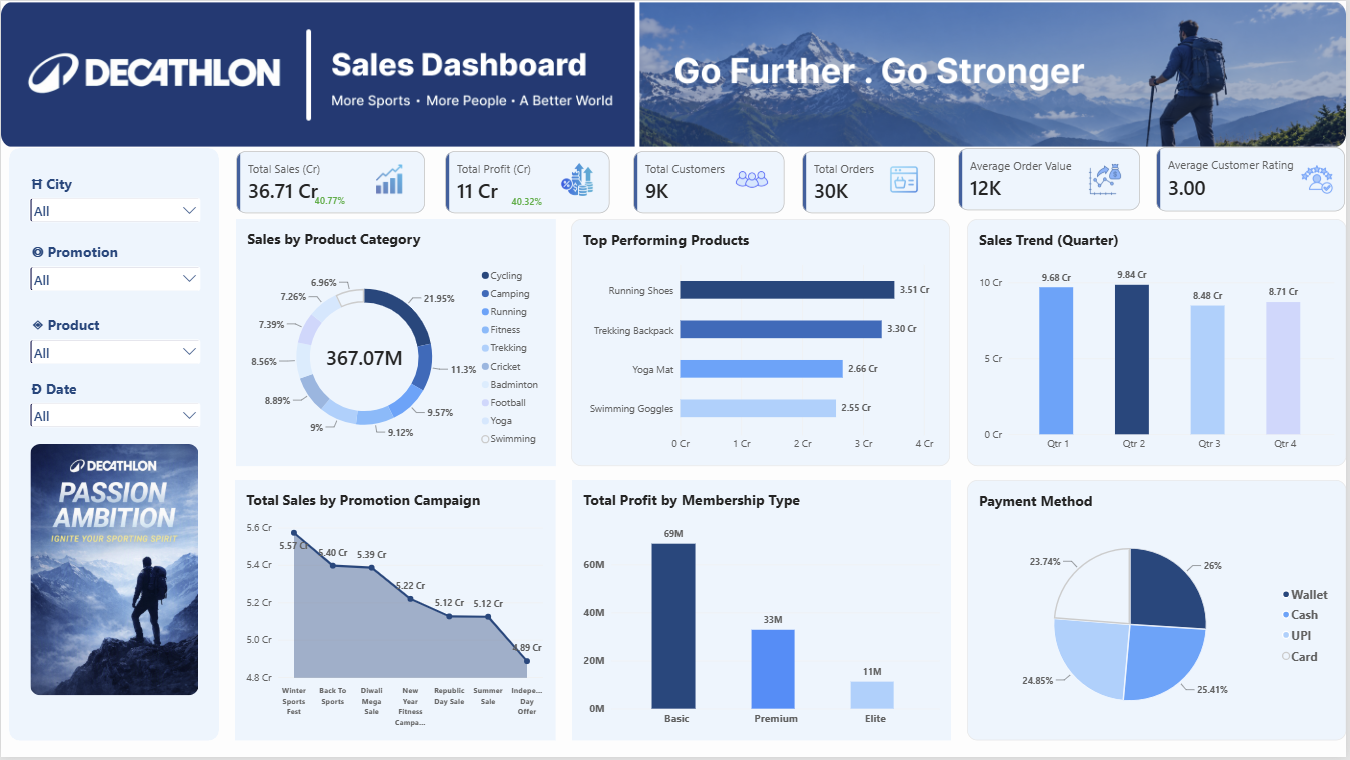

The page's visual inventory and layout, read from the dashboard file:
{"tool":"powerbi","page":{"name":"Page 1","canvas":[1920,1080],"ordinal":0},"visuals":[{"type":"cardVisual","fields":{"Data":["Sheet1.Total Profit (Cr)"]},"box":[634.4,214.4,235.6,89.3],"z":0},{"type":"image","box":[0,0,1920,210.1],"z":1000},{"type":"cardVisual","fields":{"Data":["Sheet1.Total Sales (Cr)"]},"box":[335.6,214.4,271,89.3],"z":2000},{"type":"cardVisual","fields":{"Data":["Date.Sales YOY"]},"box":[432,272,77.5,25.8],"z":3000},{"type":"donutChart","title":"Sales by Product Category","fields":{"Category":["Sheet1.Product_Category"],"Y":["Sum(Sheet1.Final_Amount)"]},"box":[335.7,311,457.3,352.6],"z":4000},{"type":"barChart","title":"Top Performing Products","fields":{"Category":["Sheet1.Product_Name"],"Y":["Sheet1.Total Sales (Cr)"]},"box":[814.5,311,540.4,352.6],"z":5000},{"type":"columnChart","title":"Sales Trend (Quarter)","fields":{"Category":["Date.Date.Variation.Date Hierarchy.Quarter"],"Y":["Sheet1.Total Sales (Cr)"]},"box":[1378,311,542,352.6],"z":6000},{"type":"cardVisual","fields":{"Data":["Sheet1.Total Customers"]},"box":[903.3,214.4,215.6,89.3],"z":7000},{"type":"cardVisual","fields":{"Data":["Sheet1.Total Orders"]},"box":[1143.3,214.4,190.9,89.3],"z":8000},{"type":"cardVisual","fields":{"Data":["Sheet1.Average Order Value"]},"box":[1365.7,209.4,260.2,89.3],"z":9000},{"type":"cardVisual","fields":{"Data":["Sheet1.Average Customer Rating"]},"box":[1649,207.9,271,92.4],"z":10000},{"type":"cardVisual","fields":{"Data":["Date.Profit YOY"]},"box":[713,273,77,24],"z":11000},{"type":"shape","box":[11.7,210,300,846.7],"z":11500},{"type":"pieChart","title":"Payment Method","fields":{"Category":["Sheet1.Payment_Method"],"Y":["Sheet1.Total Orders"]},"box":[1378.3,685,541.7,371.7],"z":12000},{"type":"columnChart","title":"Total Profit by Membership Type","fields":{"Category":["Sheet1.Membership_Type"],"Y":["Sheet1.Total Profit"]},"box":[815,685,540,371.7],"z":13000},{"type":"lineChart","title":"Total Sales by Promotion Campaign","fields":{"Category":["Sheet1.Promotion_Campaign"],"Y":["Sheet1.Total Sales (Cr)"]},"box":[335,685,458.3,371.7],"z":15000},{"type":"image","box":[520,232.2,68.9,43.3],"z":16000},{"type":"image","box":[793.3,231.7,60,46.7],"z":17000},{"type":"image","box":[1041.7,231.7,60,46.7],"z":18000},{"type":"image","box":[1258.3,231.7,60,46.7],"z":19000},{"type":"image","box":[1545,231.7,60,46.7],"z":20000},{"type":"image","box":[1848.3,231.7,60,46.7],"z":21000},{"type":"slicer","fields":{"Values":["Sheet1.City"]},"box":[35,247,254,75],"z":22000},{"type":"slicer","fields":{"Values":["Sheet1.Promotion_Campaign"]},"box":[35,345,254,75],"z":23000},{"type":"slicer","fields":{"Values":["Sheet1.Product_Name"]},"box":[35.7,448.6,254,75],"z":24000},{"type":"slicer","fields":{"Values":["Date.Date.Variation.Date Hierarchy.Year"]},"box":[35.7,540,254,75],"z":24001},{"type":"image","box":[41.4,632.9,241.4,358.6],"z":24002}]}

Visuals, with their boxes in screenshot pixels (x1, y1, x2, y2), scaled from the page's 1920x1080 canvas onto the 1350x760 screenshot:
cardVisual - Sheet1.Total Profit (Cr): bbox=(446, 151, 612, 214)
image: bbox=(0, 0, 1349, 148)
cardVisual - Sheet1.Total Sales (Cr): bbox=(236, 151, 427, 214)
cardVisual - Date.Sales YOY: bbox=(304, 191, 358, 210)
"Sales by Product Category" donutChart: bbox=(236, 219, 558, 467)
"Top Performing Products" barChart: bbox=(573, 219, 953, 467)
"Sales Trend (Quarter)" columnChart: bbox=(969, 219, 1349, 467)
cardVisual - Sheet1.Total Customers: bbox=(635, 151, 787, 214)
cardVisual - Sheet1.Total Orders: bbox=(804, 151, 938, 214)
cardVisual - Sheet1.Average Order Value: bbox=(960, 147, 1143, 210)
cardVisual - Sheet1.Average Customer Rating: bbox=(1159, 146, 1349, 211)
cardVisual - Date.Profit YOY: bbox=(501, 192, 555, 209)
shape: bbox=(8, 148, 219, 744)
"Payment Method" pieChart: bbox=(969, 482, 1349, 744)
"Total Profit by Membership Type" columnChart: bbox=(573, 482, 953, 744)
"Total Sales by Promotion Campaign" lineChart: bbox=(236, 482, 558, 744)
image: bbox=(366, 163, 414, 194)
image: bbox=(558, 163, 600, 196)
image: bbox=(732, 163, 775, 196)
image: bbox=(885, 163, 927, 196)
image: bbox=(1086, 163, 1129, 196)
image: bbox=(1300, 163, 1342, 196)
slicer - Sheet1.City: bbox=(25, 174, 203, 227)
slicer - Sheet1.Promotion_Campaign: bbox=(25, 243, 203, 296)
slicer - Sheet1.Product_Name: bbox=(25, 316, 204, 368)
slicer - Date.Date.Variation.Date Hierarchy.Year: bbox=(25, 380, 204, 433)
image: bbox=(29, 445, 199, 698)
